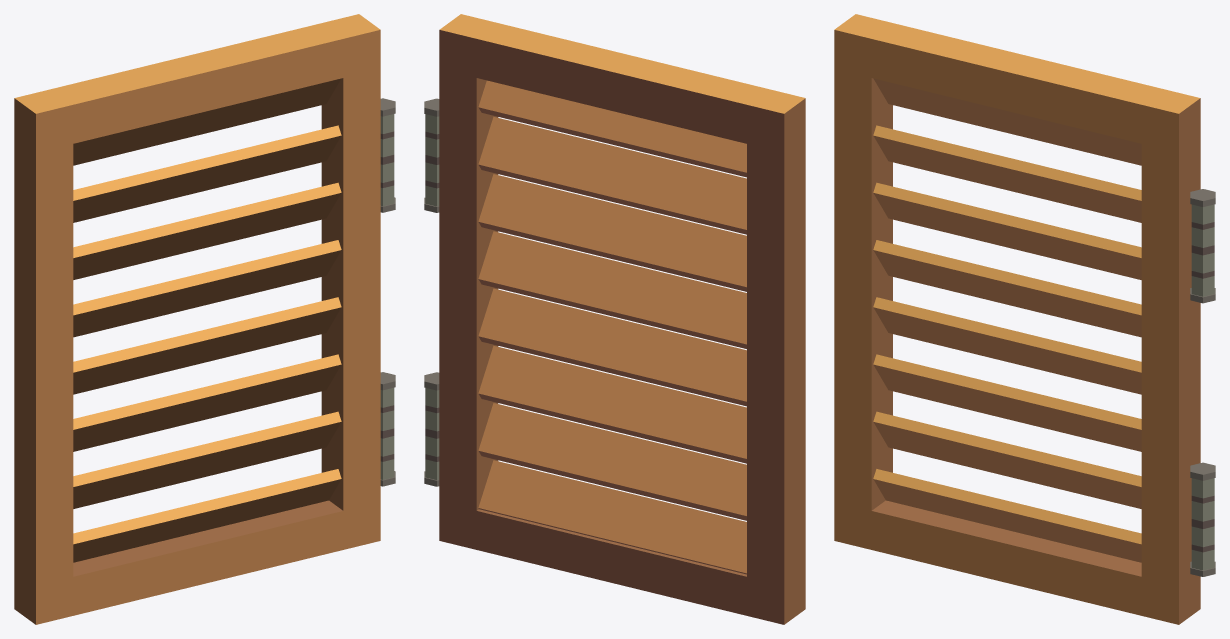
File: PuertaGiratoria_B_01.FBX
The picture shows the model from 3 angles, left to right: view 1: azimuth 30°, elevation 25°; view 2: azimuth 150°, elevation 25°; view 3: azimuth 330°, elevation 25°; orthographic projection.
Parts seen in each view (by area): view 1: SwingDoor_02; view 2: SwingDoor_02; view 3: SwingDoor_02.
Part boxes in pixels (box(x1,y1,x2,y2)): SwingDoor_02: box(14, 14, 395, 624); SwingDoor_02: box(424, 14, 805, 624); SwingDoor_02: box(834, 14, 1215, 624).
Bounding box in the file's own units: 64.5 × 85 × 6.5.
